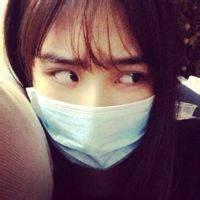WRONG: (28, 46, 152, 170)
